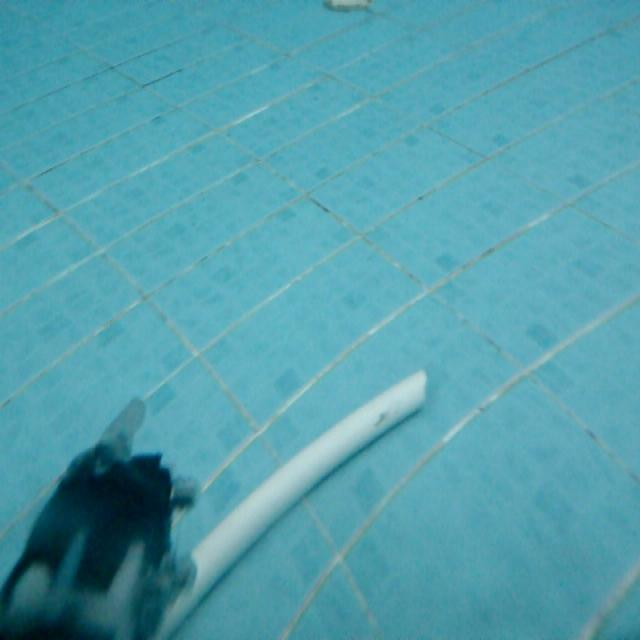Cube: (150, 362, 430, 638)
